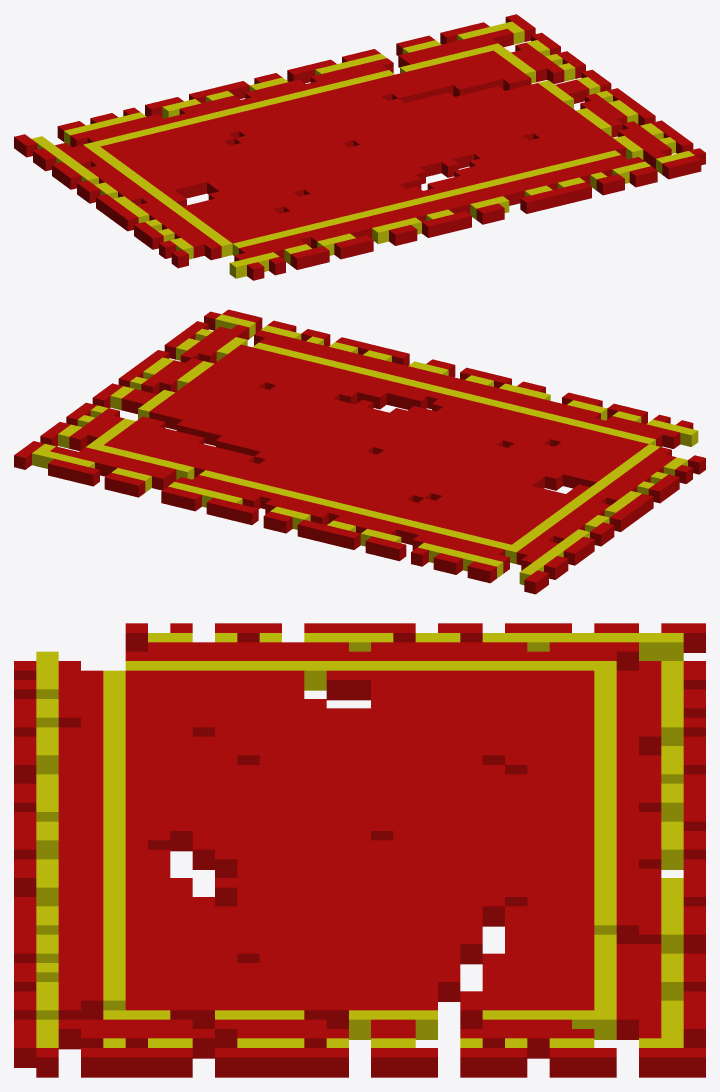
The model's file is house_carpet.obj.
3 views of the same model, one above another, from view 1: azimuth 30°, elevation 25°; view 2: azimuth 150°, elevation 25°; view 3: azimuth 270°, elevation 25° (orthographic). The views are drawn at different scales.
Visible parts, largest first — view 1: house_carpet; view 2: house_carpet; view 3: house_carpet.
Part boxes in pixels (x1,y1,x2,y2): house_carpet: (14,14,705,280); house_carpet: (14,309,705,594); house_carpet: (14,623,705,1077).
Size of the model in its own units: 46 by 1 by 31.
Materials: 1 (1 with a texture image).
